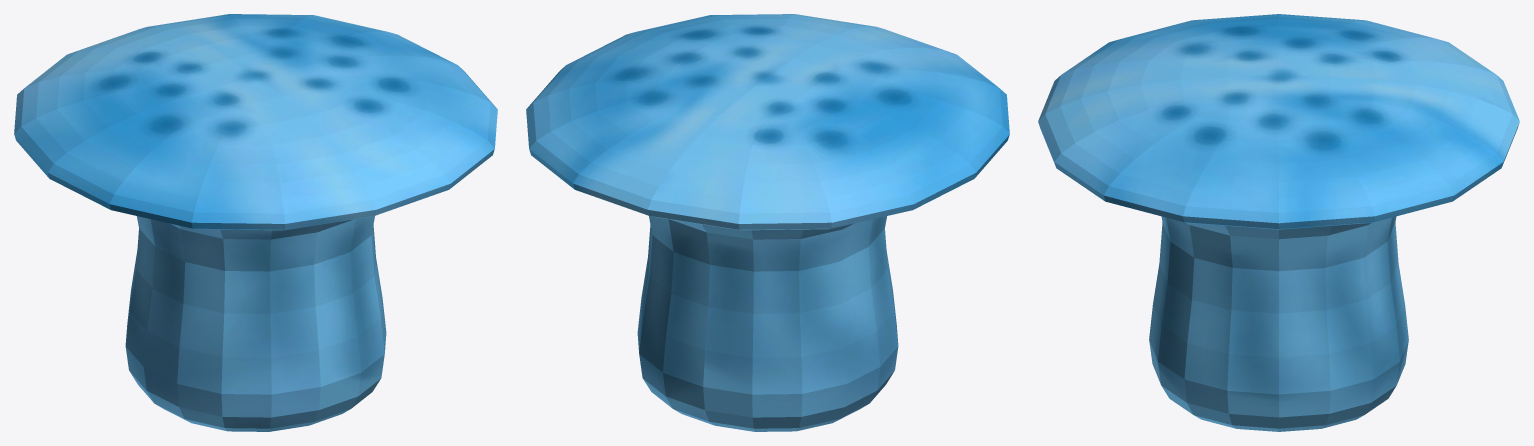
File: venenousmushroom.glb
3 renders of one model, left to right at view 1: azimuth 30°, elevation 25°; view 2: azimuth 150°, elevation 25°; view 3: azimuth 270°, elevation 25°, orthographic.
Parts seen in each view (by area): view 1: hongo_4; view 2: hongo_4; view 3: hongo_4.
Boxes of the visible parts, x1,y1,x2,y2 form: hongo_4: (14,14,497,431); hongo_4: (526,14,1009,431); hongo_4: (1038,14,1519,431).
Size of the model in its own units: 2.88 by 2.1 by 2.88.
Materials: 1 (1 with a texture image).
